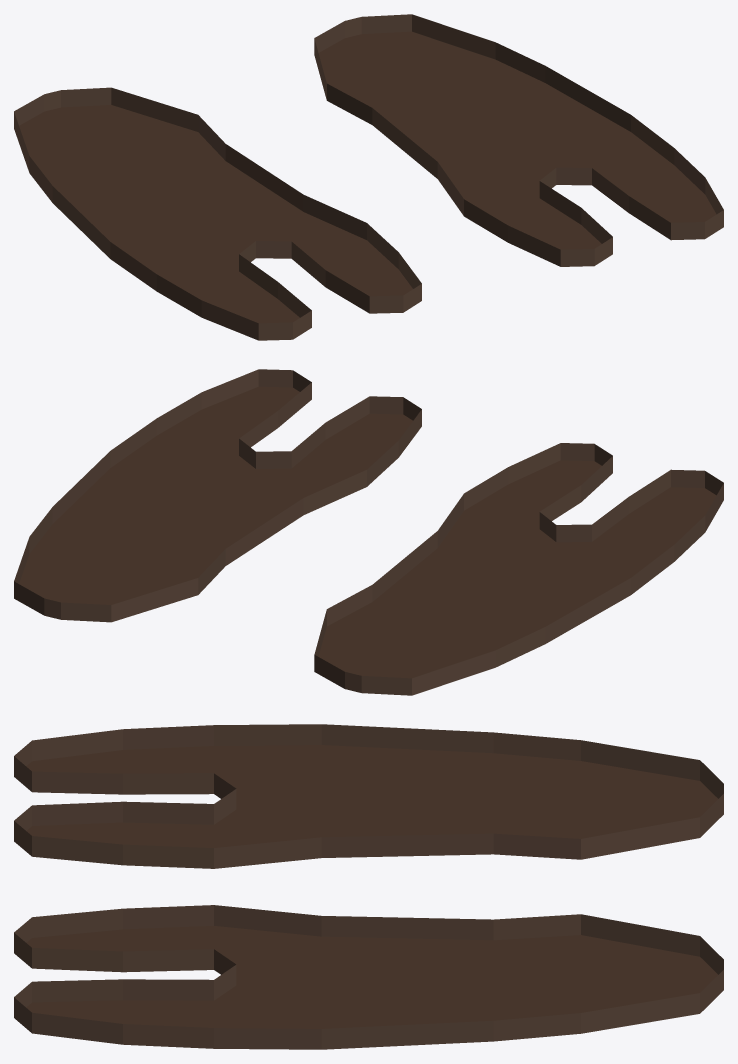
Rendered from Sledy.fbx.
3 renders of one model, top to bottom at view 1: azimuth 30°, elevation 25°; view 2: azimuth 150°, elevation 25°; view 3: azimuth 270°, elevation 25°, orthographic. The views are drawn at different scales.
Parts seen in each view (by area): view 1: SM_DL_Sled_2, SM_DL_Sled; view 2: SM_DL_Sled, SM_DL_Sled_2; view 3: SM_DL_Sled, SM_DL_Sled_2.
Boxes of the visible parts, bbox=[...] form: SM_DL_Sled_2: bbox=[314, 14, 723, 266]; SM_DL_Sled: bbox=[14, 87, 421, 340]; SM_DL_Sled: bbox=[314, 443, 723, 695]; SM_DL_Sled_2: bbox=[14, 369, 421, 622]; SM_DL_Sled: bbox=[14, 724, 723, 868]; SM_DL_Sled_2: bbox=[14, 905, 723, 1049].
Size of the model in its own units: 0.3922 by 0.0125 by 0.3862.
